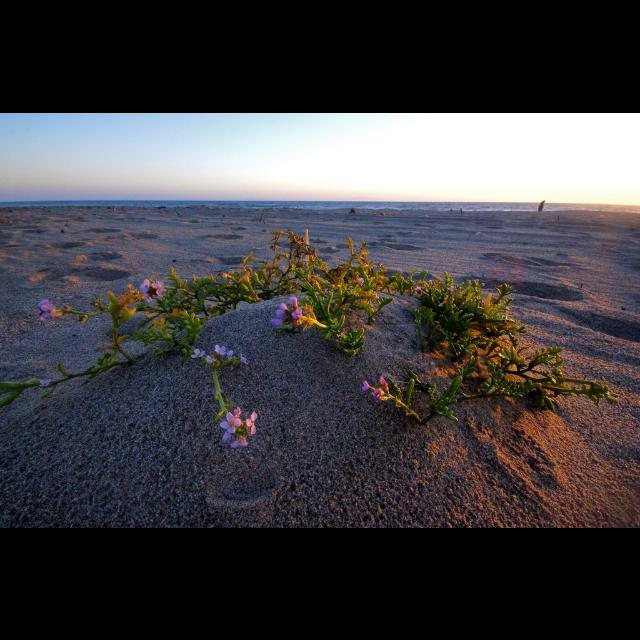Flower: (221, 407, 267, 449), (271, 294, 313, 330), (189, 344, 253, 364), (356, 374, 402, 400), (140, 277, 168, 301), (40, 297, 60, 319)
